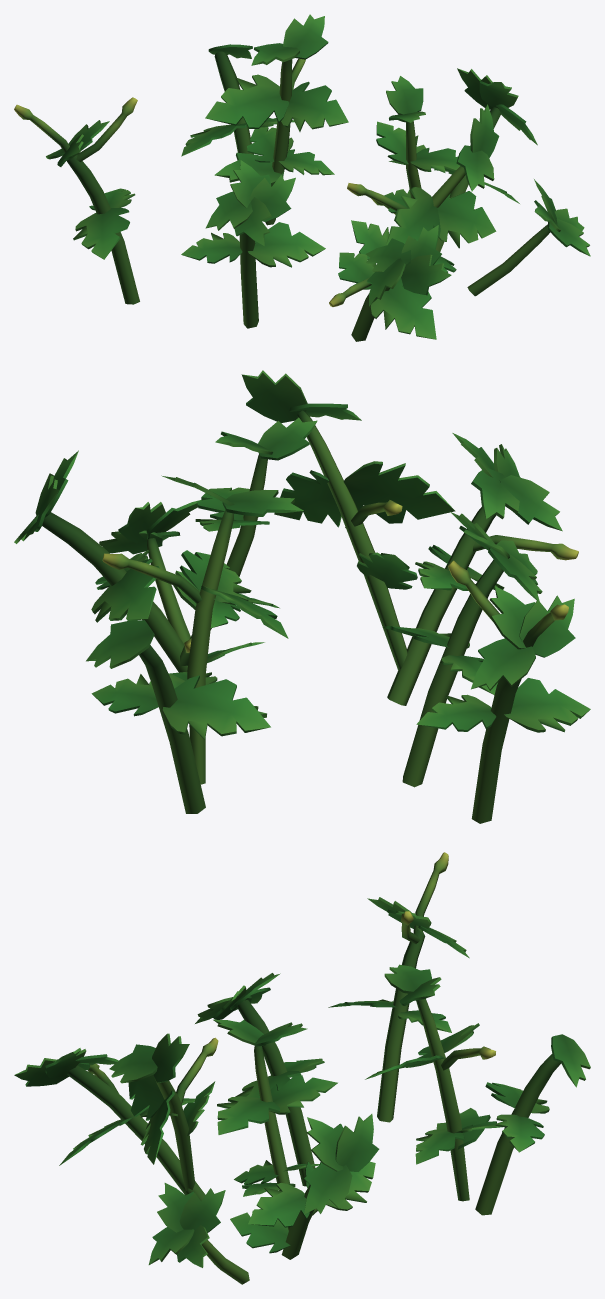
File: SM_Plant_Tomato_Lv1.fbx
The picture shows the model from 3 angles, top to bottom: view 1: azimuth 30°, elevation 25°; view 2: azimuth 150°, elevation 25°; view 3: azimuth 270°, elevation 25°; orthographic projection. The views are drawn at different scales.
Visible parts, largest first — view 1: SM_Plant_Tomato_Lv1; view 2: SM_Plant_Tomato_Lv1; view 3: SM_Plant_Tomato_Lv1.
Boxes of the visible parts, <box> form: SM_Plant_Tomato_Lv1: <box>14,14,590,341</box>; SM_Plant_Tomato_Lv1: <box>14,370,590,823</box>; SM_Plant_Tomato_Lv1: <box>14,852,590,1284</box>.
Size of the model in its own units: 53.69 by 26.81 by 52.79.
